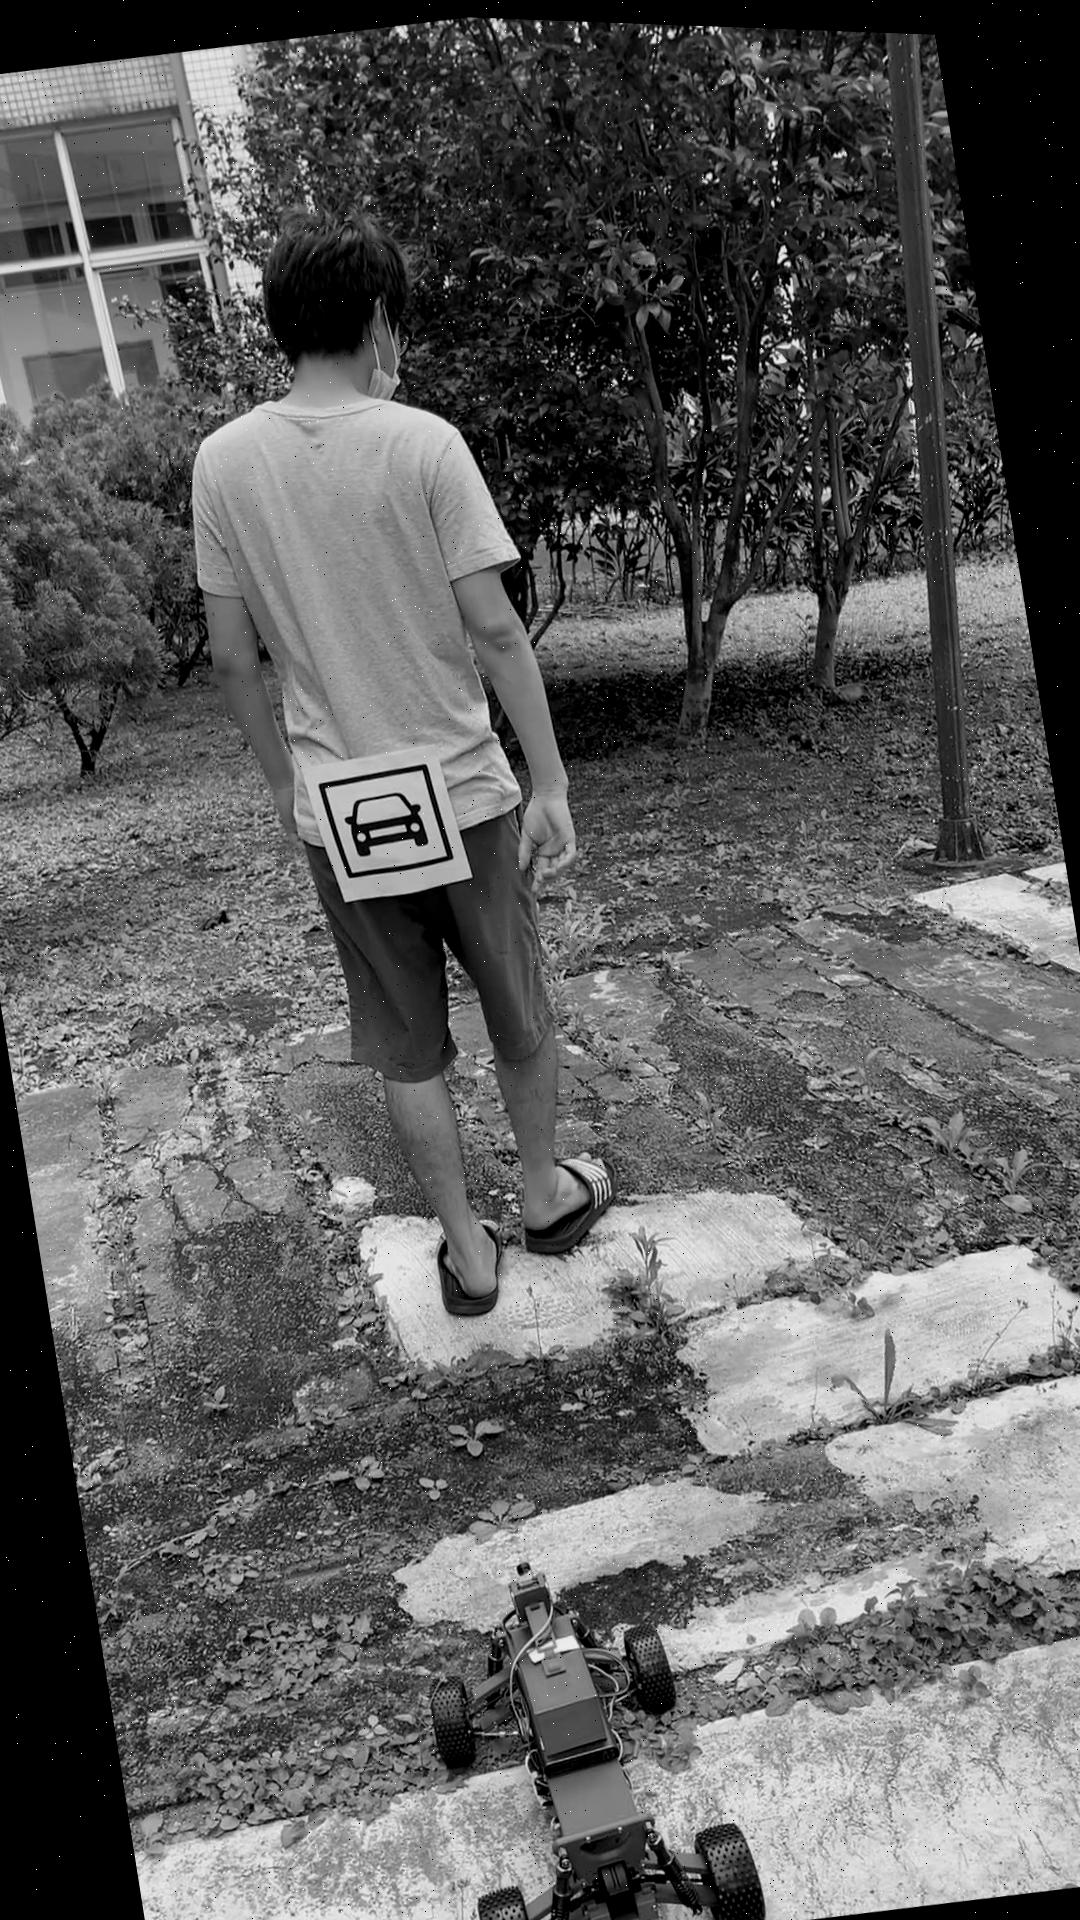car_img: (316, 753, 455, 881)
